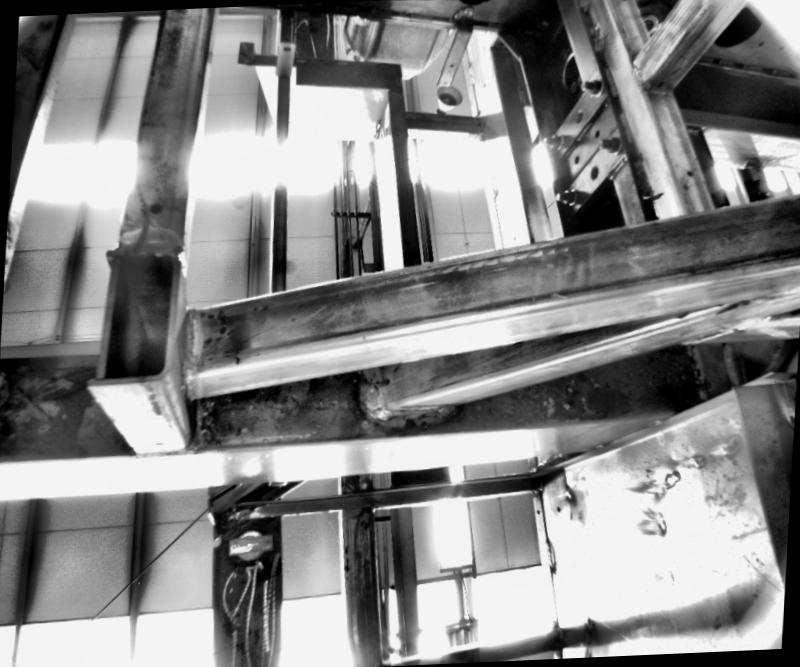bolt: (576, 75, 602, 98), (596, 136, 626, 154), (552, 187, 576, 206), (540, 133, 561, 149)
bracket: (536, 66, 640, 220), (435, 4, 475, 91), (274, 29, 294, 80)
hole: (146, 199, 165, 218), (588, 164, 599, 180), (378, 376, 392, 388), (572, 109, 584, 123), (592, 128, 600, 139), (572, 152, 578, 164), (152, 440, 162, 447), (685, 169, 692, 177), (655, 81, 664, 86), (281, 46, 289, 51), (554, 506, 560, 512), (448, 63, 454, 68), (442, 79, 448, 83), (535, 508, 538, 514), (512, 237, 514, 240), (482, 83, 484, 86)
welding: (364, 403, 451, 422), (361, 364, 387, 418), (182, 308, 202, 374), (542, 538, 555, 571), (641, 84, 671, 98), (464, 64, 476, 86), (452, 8, 472, 19)
